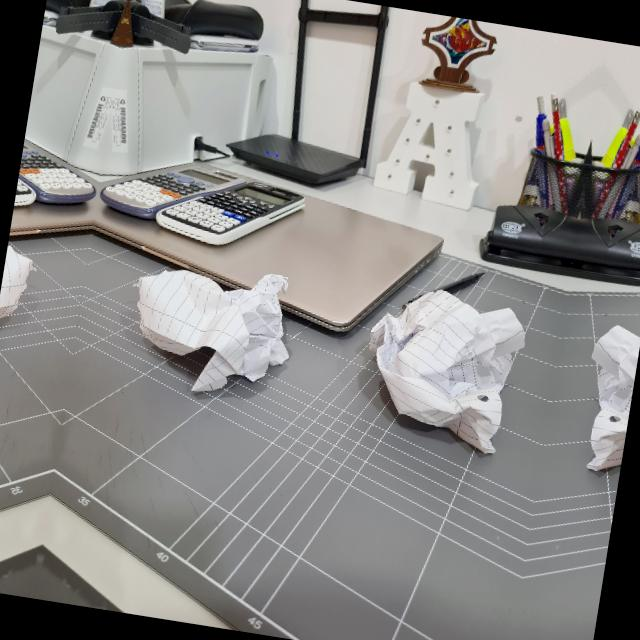paper: (354, 276, 528, 464), (124, 244, 306, 403), (575, 310, 640, 482), (0, 222, 36, 359)
